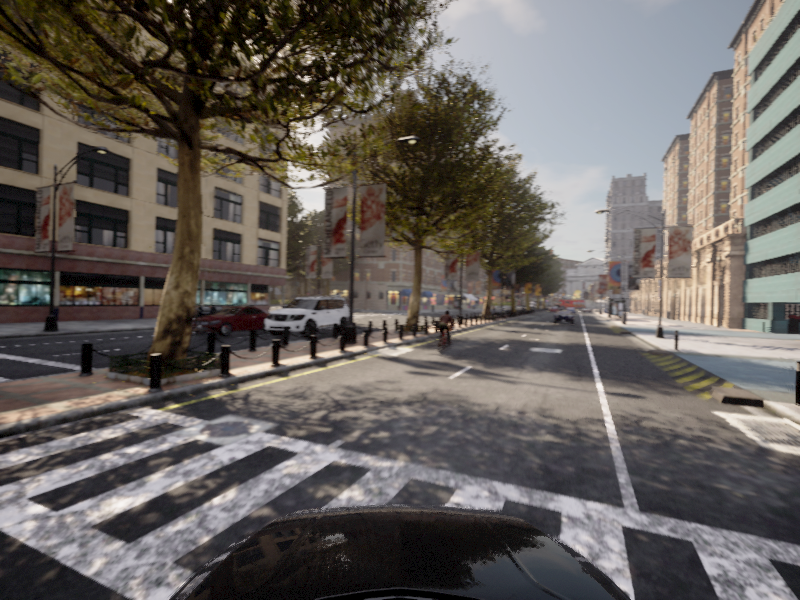vehicle: (1, 1, 799, 599), (259, 294, 354, 340), (185, 305, 282, 337), (430, 310, 459, 354), (553, 310, 574, 324)
